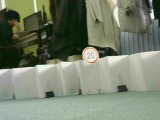speed_20: (81, 46, 99, 64)
